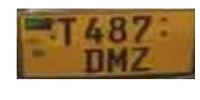T: (57, 16, 80, 48)
